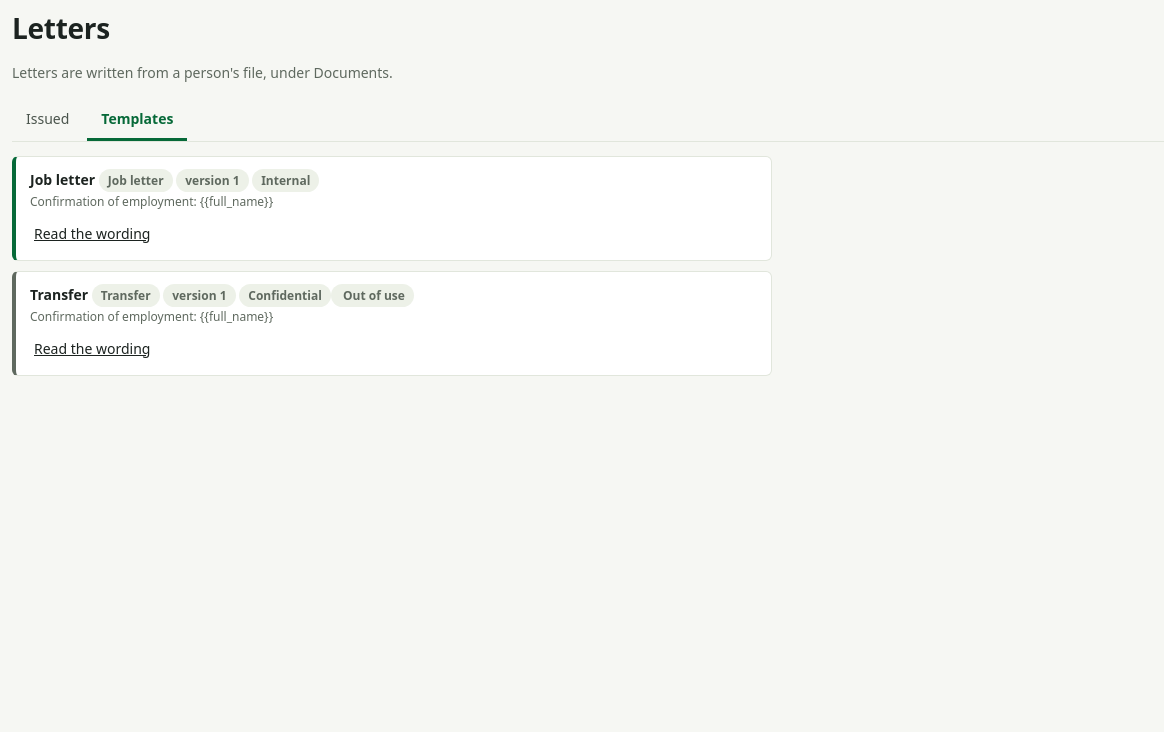
Test: the letters screen › shows HR the templates to read, without changing them
Expected: the text "Out of use" is shown, [331, 284, 414, 307]
Click the button with aria-label "Read the wording of Job letter" at (92, 233), box [30, 219, 154, 248]
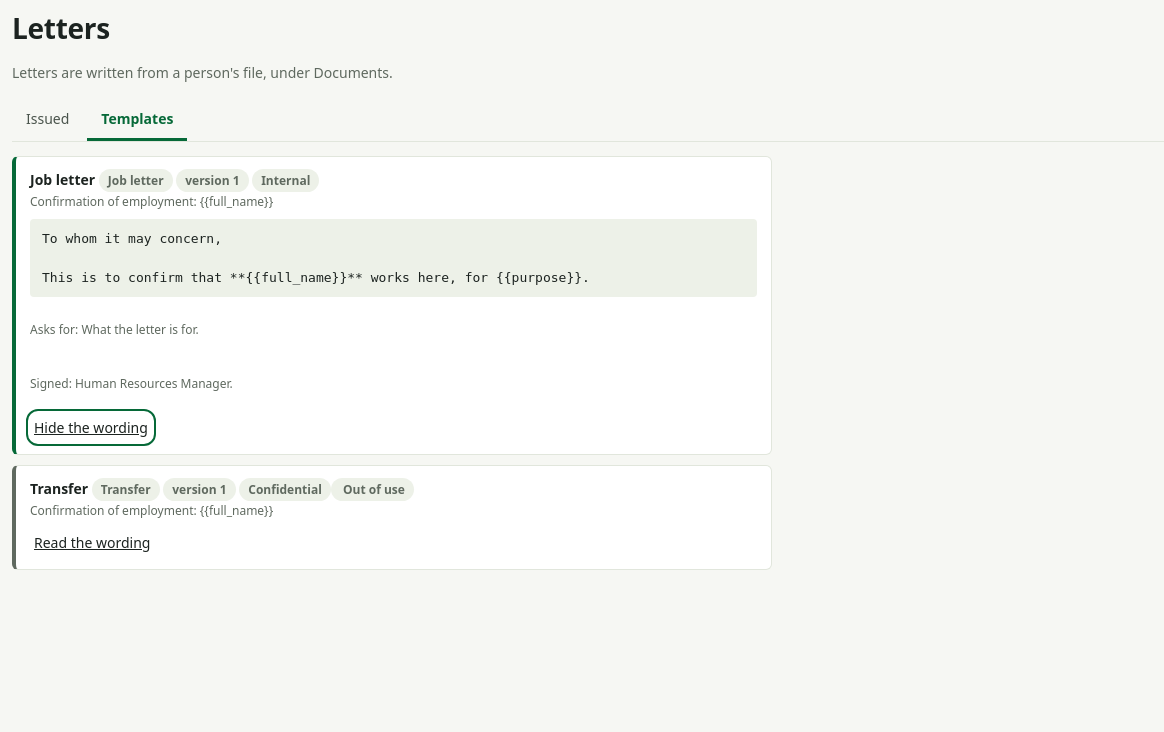
Result: the text "This is to confirm that" is shown at [42, 231, 590, 285]
Result: the text "Asks for: What the letter is for." is shown at [30, 321, 199, 338]
